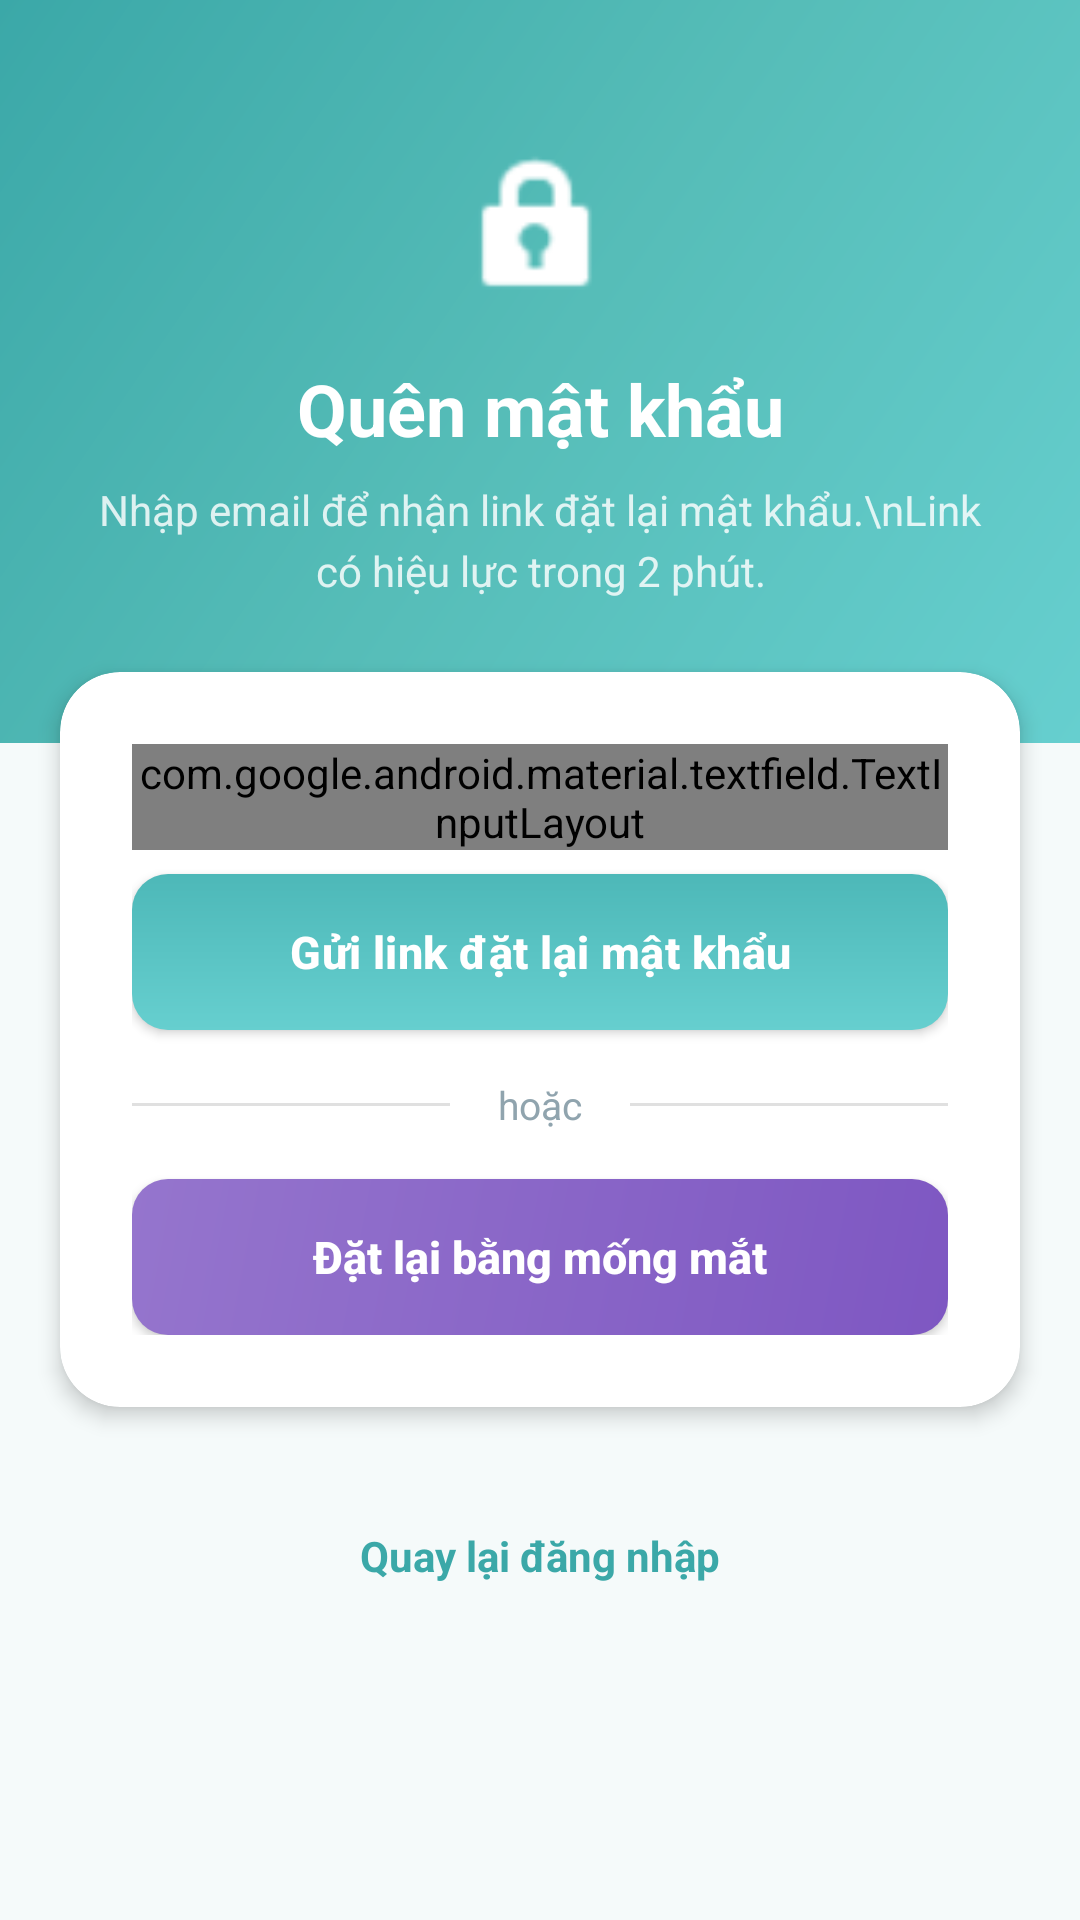

Named icons in this screenshot (1080px×1920px) and their centers, [x,y]:
lock idle: [536,223]
